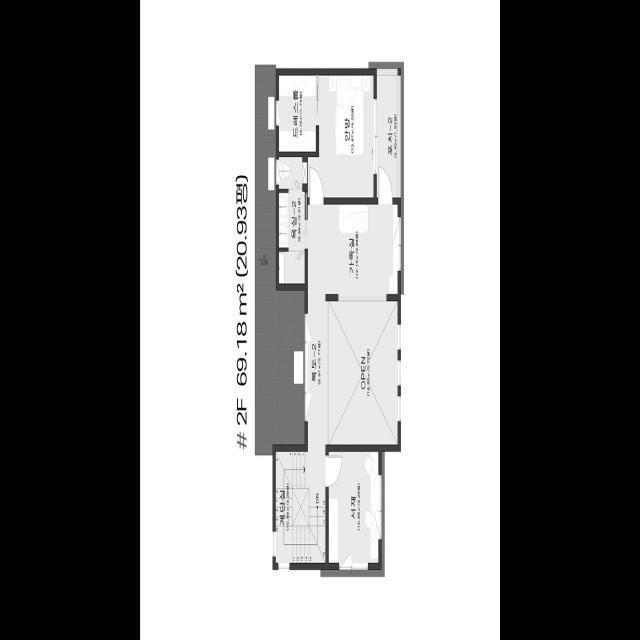background: (140, 0, 500, 640)
space_balconi: (377, 75, 398, 197)
space_bedroom: (308, 75, 374, 197)
space_dressroom: (279, 75, 316, 151)
space_living_room: (308, 203, 398, 450)
space_other: (329, 300, 398, 444), (329, 451, 379, 562)
space_staircase: (276, 451, 326, 563)
space_toilet: (279, 156, 307, 283)
